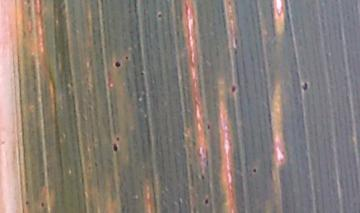tarspot: (298, 78, 310, 93), (228, 81, 239, 95), (249, 164, 260, 176), (113, 57, 123, 70), (201, 195, 211, 207), (154, 8, 164, 20), (37, 198, 47, 210), (112, 141, 119, 154), (205, 120, 212, 132), (123, 54, 130, 62), (24, 198, 31, 206), (114, 135, 121, 142)
